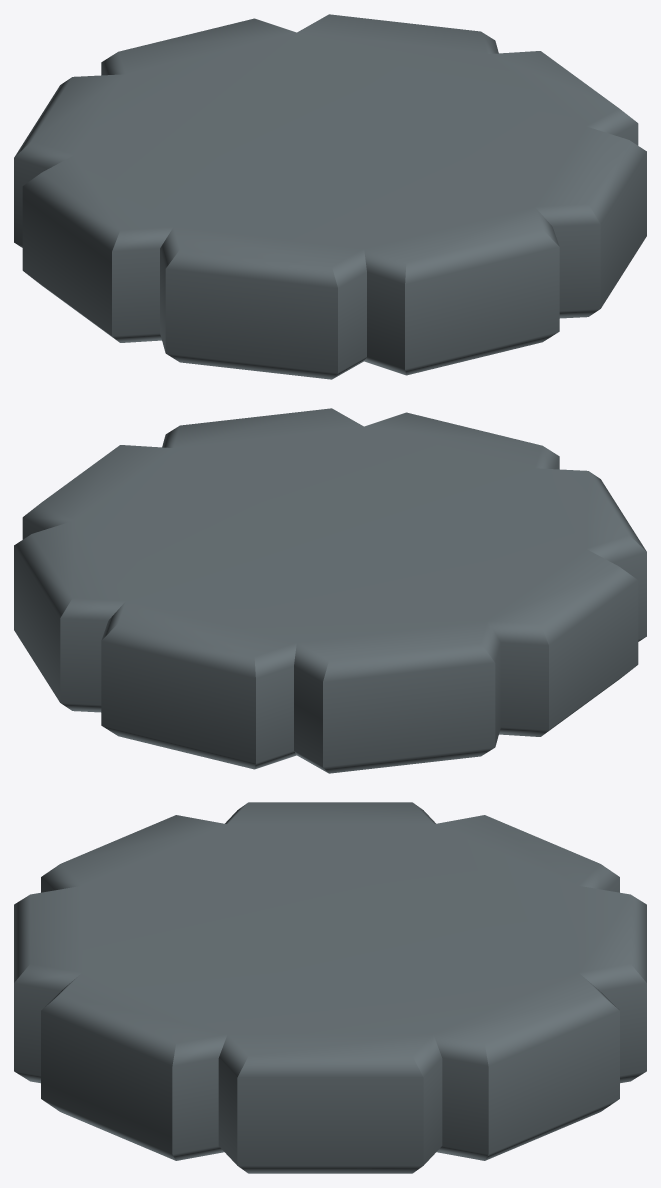
File: pillar_cap_001.glb
3 renders of one model, top to bottom at view 1: azimuth 30°, elevation 25°; view 2: azimuth 150°, elevation 25°; view 3: azimuth 270°, elevation 25°, orthographic. The views are drawn at different scales.
Parts seen in each view (by area): view 1: pillar_cap_001; view 2: pillar_cap_001; view 3: pillar_cap_001.
Boxes of the visible parts, x1,y1,x2,y2 form: pillar_cap_001: [14, 14, 646, 379]; pillar_cap_001: [14, 408, 646, 773]; pillar_cap_001: [14, 802, 646, 1173].
Bounding box in the file's own units: 6.83 × 1.4 × 6.83.
Materials: 1 (1 with a texture image).
